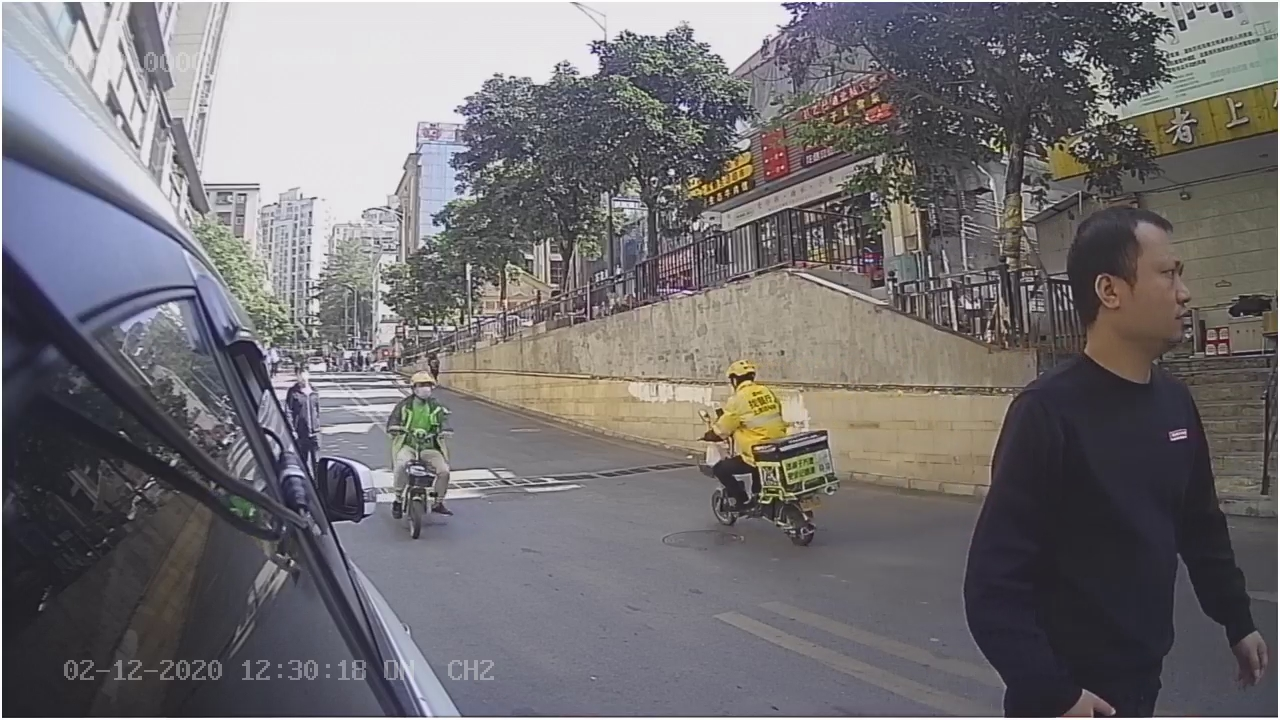person: (968, 200, 1227, 546)
